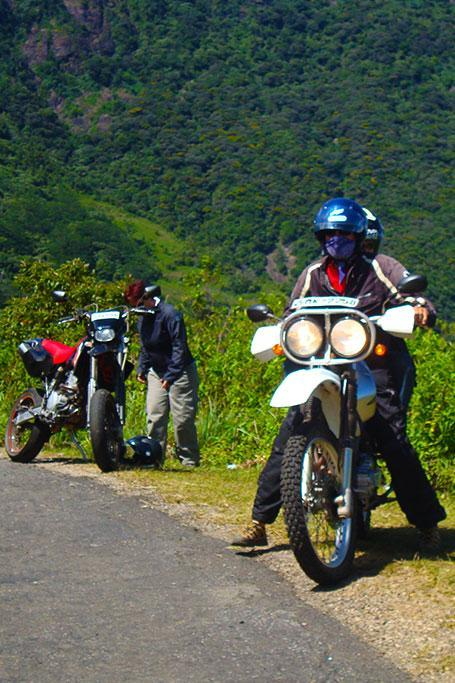motorbike: (246, 274, 422, 584), (4, 292, 155, 472)
